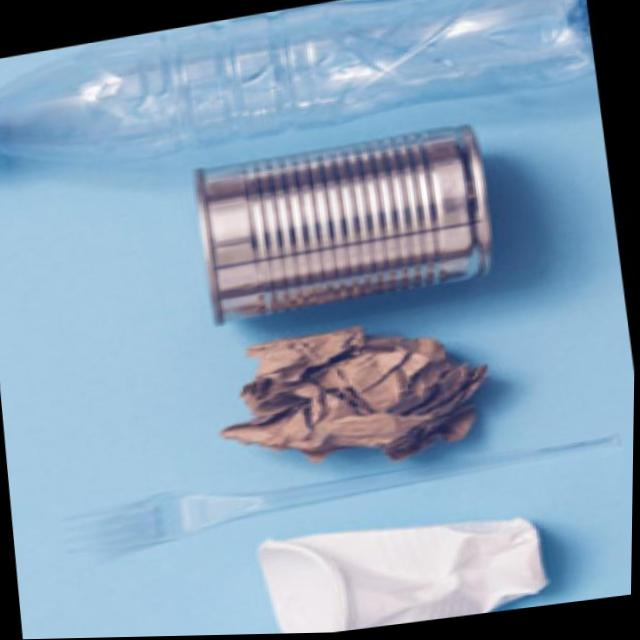clothes: (141, 107, 541, 343)
leaf: (0, 0, 605, 184), (18, 411, 635, 567), (243, 484, 579, 636)
trash: (197, 300, 521, 472)
